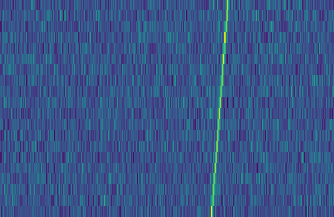signal: (207, 0, 233, 217)
